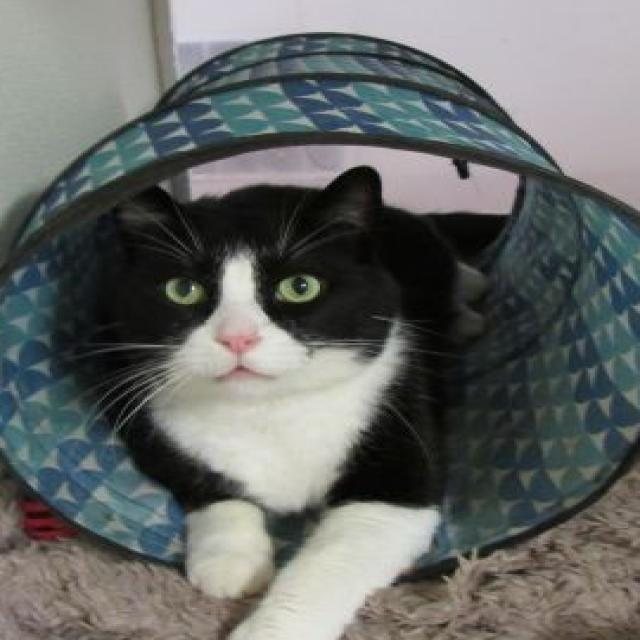Tuxedo: (85, 162, 448, 640)
